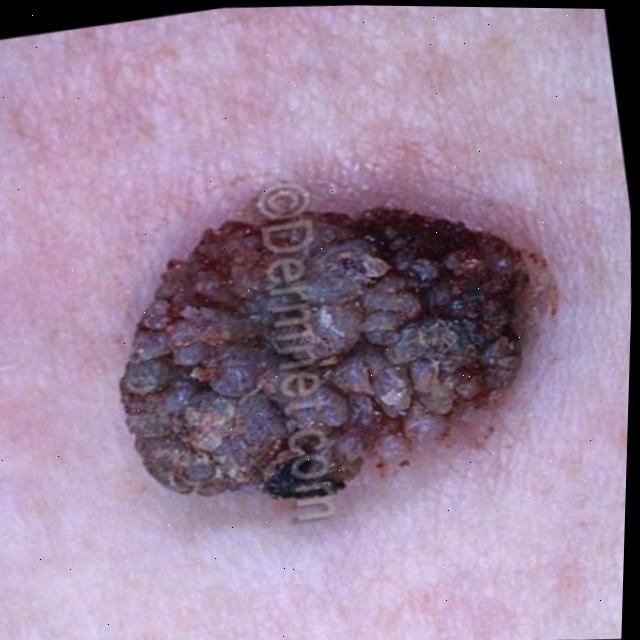Eczema: (110, 198, 575, 496)
